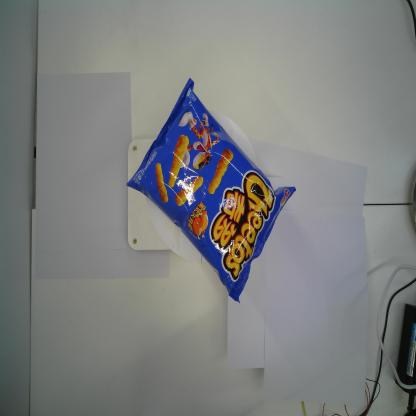Puffed Food: (126, 77, 295, 304)
